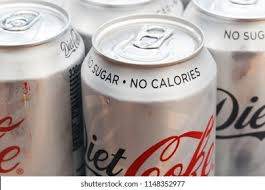can: (81, 14, 218, 175), (0, 0, 85, 175), (182, 0, 264, 175), (190, 0, 207, 7)
